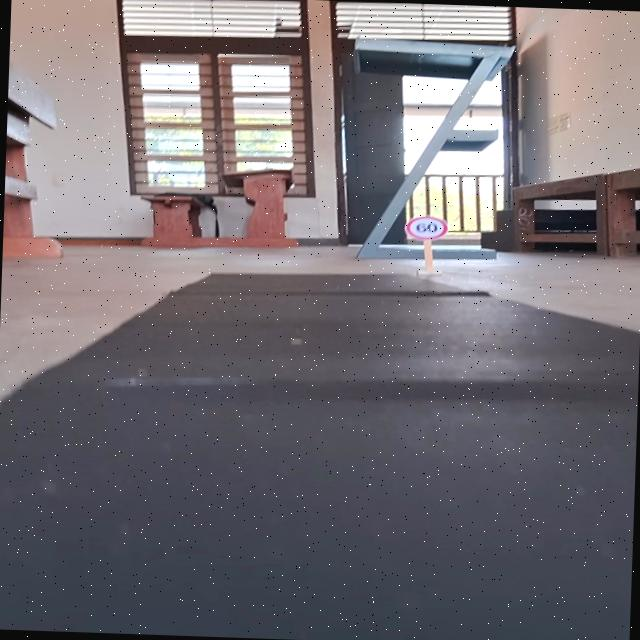Speed60: (402, 213, 451, 242)
